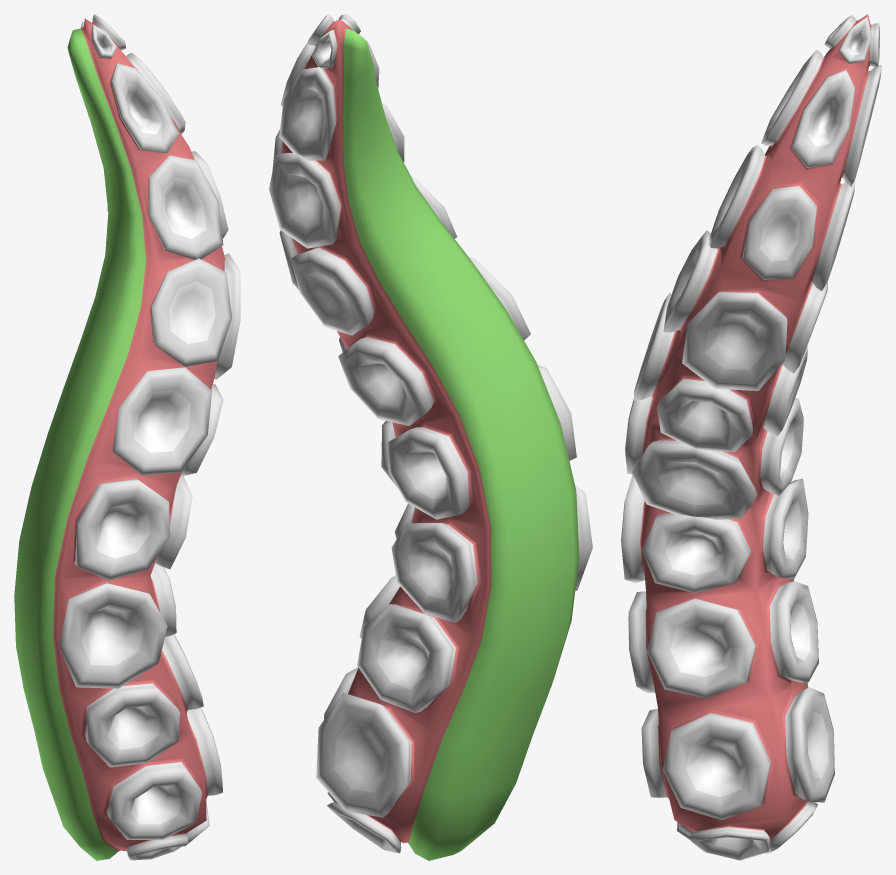
The model's file is Tentacle_Big03.fbx.
3 renders of one model, left to right at view 1: azimuth 30°, elevation 25°; view 2: azimuth 150°, elevation 25°; view 3: azimuth 270°, elevation 25°, orthographic. The views are drawn at different scales.
Parts seen in each view (by area): view 1: TentacleCurve_Big03.001; view 2: TentacleCurve_Big03.001; view 3: TentacleCurve_Big03.001.
Boxes of the visible parts, <box> form: TentacleCurve_Big03.001: <box>14,14,240,860</box>; TentacleCurve_Big03.001: <box>269,14,592,860</box>; TentacleCurve_Big03.001: <box>621,14,881,860</box>.
Bounding box in the file's own units: 232 × 789 × 221.
